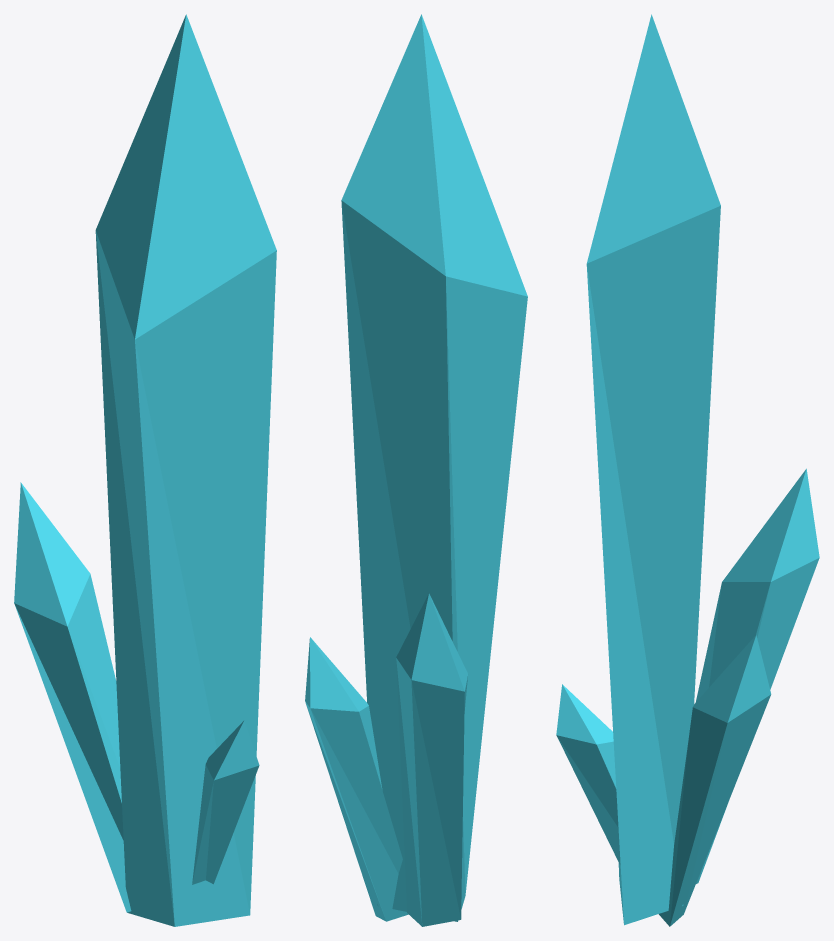
The model's file is crystal6.fbx.
3 renders of one model, left to right at view 1: azimuth 30°, elevation 25°; view 2: azimuth 150°, elevation 25°; view 3: azimuth 270°, elevation 25°, orthographic.
Visible parts, largest first — view 1: crystal1.005; view 2: crystal1.005; view 3: crystal1.005.
Boxes of the visible parts, left/top/right/bottom form: crystal1.005: left=14, top=14, right=276, bottom=926; crystal1.005: left=305, top=14, right=527, bottom=926; crystal1.005: left=556, top=14, right=819, bottom=926.
Size of the model in its own units: 54.3 by 253 by 67.57.
